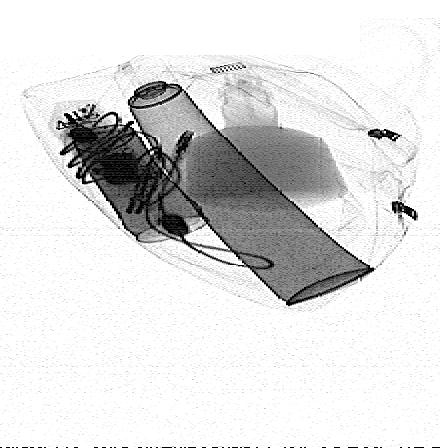Sprayer: (107, 57, 374, 306)
